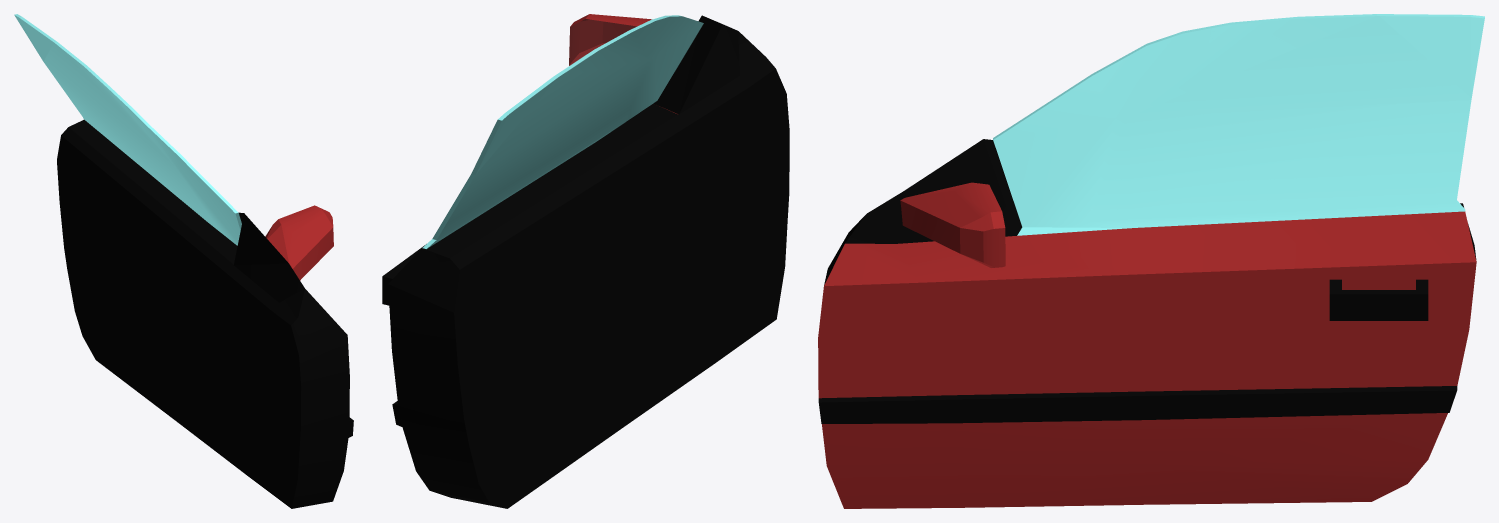
The model's file is CarDoorFL.dae.
3 views of the same model, side by side, from view 1: azimuth 30°, elevation 25°; view 2: azimuth 150°, elevation 25°; view 3: azimuth 270°, elevation 25° (orthographic). The views are drawn at different scales.
Visible parts, largest first — view 1: skp141D (×3); view 2: skp141D (×4), nob; view 3: skp141D (×5), nob.
Boxes of the visible parts, x1,y1,x2,y2 form: skp141D (×3): (14,14,353,508); skp141D (×4): (388,14,789,508); nob: (382,244,426,305); skp141D (×5): (818,14,1484,508); nob: (1329,279,1428,320).
Bounding box in the file's own units: 16.33 × 53.25 × 39.08.
